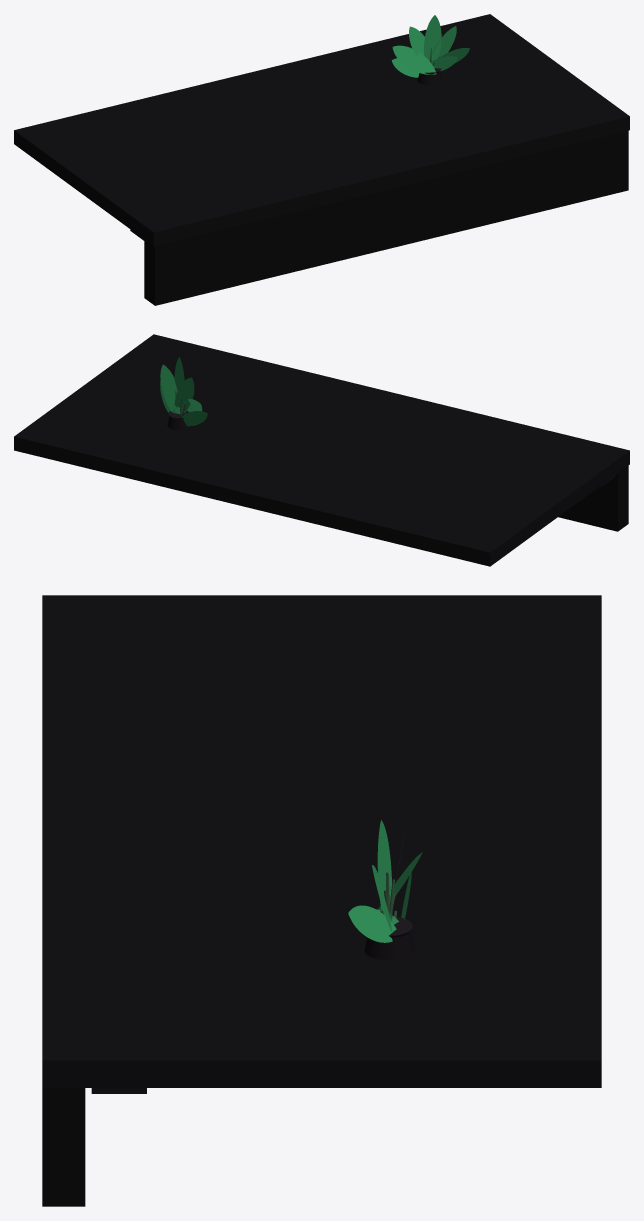
The model's file is desk-plant.glb.
The picture shows the model from 3 angles, top to bottom: view 1: azimuth 30°, elevation 25°; view 2: azimuth 150°, elevation 25°; view 3: azimuth 270°, elevation 25°; orthographic projection. The views are drawn at different scales.
Parts seen in each view (by area): view 1: desk_top, desk_front_panel, plant_leaf_1, plant_leaf_3; view 2: desk_top, desk_front_panel, plant_leaf_4, plant_leaf_2; view 3: desk_top, desk_front_panel, plant_leaf_5, plant_pot.
Boxes of the visible parts, bbox=[...] form: desk_top: bbox=[14, 14, 629, 246]; desk_front_panel: bbox=[144, 130, 628, 305]; plant_leaf_1: bbox=[392, 45, 436, 74]; plant_leaf_3: bbox=[424, 15, 441, 67]; desk_top: bbox=[14, 334, 629, 566]; desk_front_panel: bbox=[558, 465, 628, 531]; plant_leaf_4: bbox=[160, 364, 180, 414]; plant_leaf_2: bbox=[174, 377, 194, 413]; desk_top: bbox=[42, 595, 601, 1087]; desk_front_panel: bbox=[42, 1088, 85, 1206]; plant_leaf_5: bbox=[348, 905, 396, 942]; plant_pot: bbox=[364, 931, 414, 960].
Bounding box in the file's own units: 3.58 × 1.01 × 1.82.
